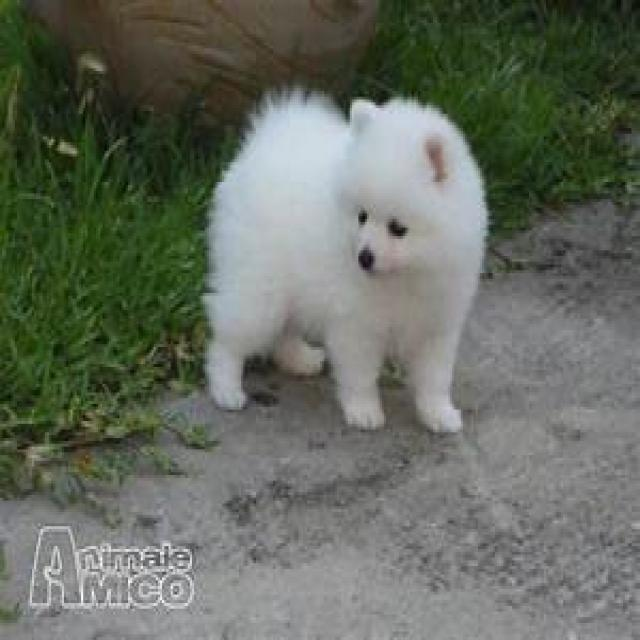dog: (203, 88, 491, 435)
